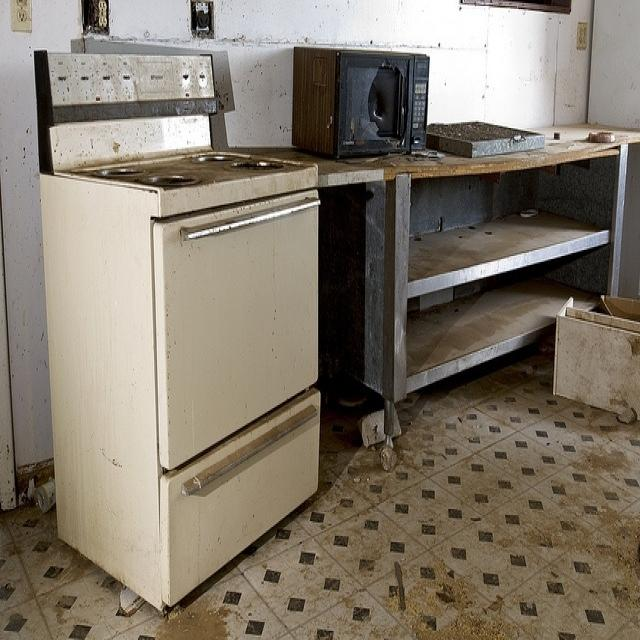E-waste: (44, 73, 328, 576), (290, 40, 443, 163)
